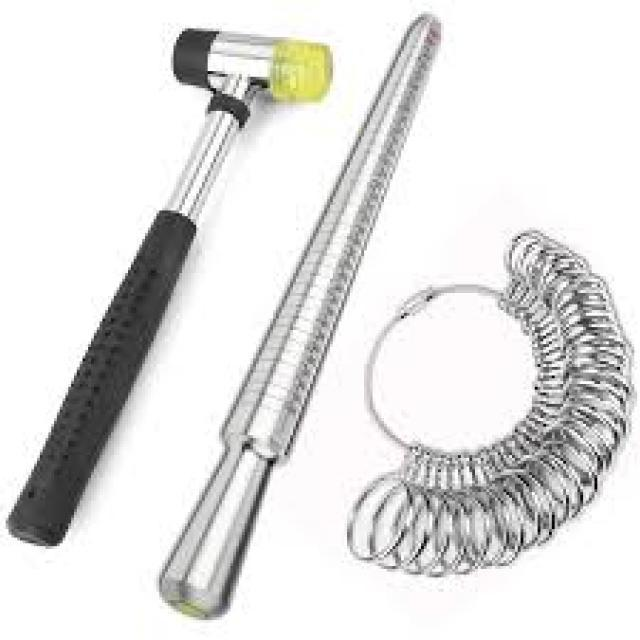hammer: (0, 5, 338, 566)
